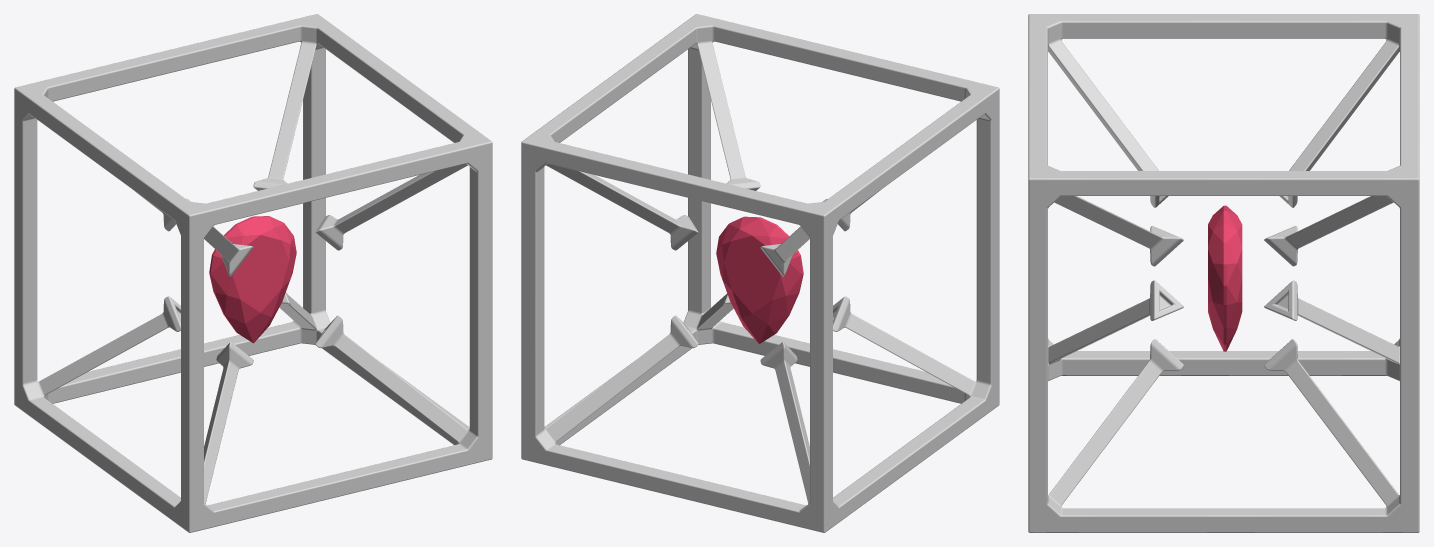
Rendered from HoloFilterRuby.fbx.
3 renders of one model, left to right at view 1: azimuth 30°, elevation 25°; view 2: azimuth 150°, elevation 25°; view 3: azimuth 270°, elevation 25°, orthographic. The views are drawn at different scales.
Parts seen in each view (by area): view 1: FilterFrame, Ruby; view 2: FilterFrame, Ruby; view 3: FilterFrame, Ruby.
Boxes of the visible parts, x1=… form: FilterFrame: x1=14, y1=14, x2=492, y2=532; Ruby: x1=209, y1=216, x2=296, y2=343; FilterFrame: x1=521, y1=14, x2=999, y2=532; Ruby: x1=716, y1=216, x2=803, y2=343; FilterFrame: x1=1028, y1=14, x2=1419, y2=532; Ruby: x1=1208, y1=205, x2=1242, y2=351.
Bounding box in the file's own units: 100 × 100 × 100.
